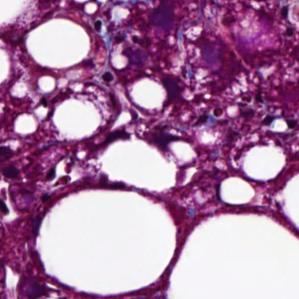inflammation: (246, 0, 299, 40), (237, 106, 297, 139), (34, 153, 83, 189)
